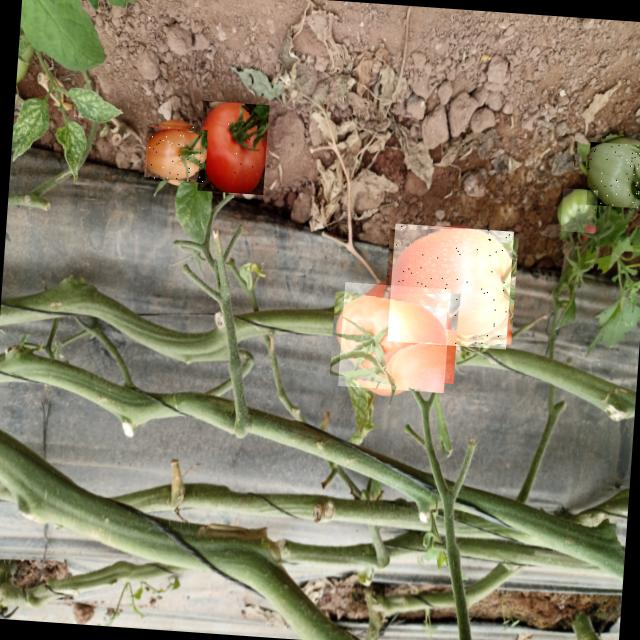Ripe Tomato: (386, 223, 514, 349), (338, 282, 450, 392), (197, 100, 269, 194)
Unripe Tomato: (146, 122, 207, 184), (586, 141, 640, 208), (560, 188, 598, 233)
